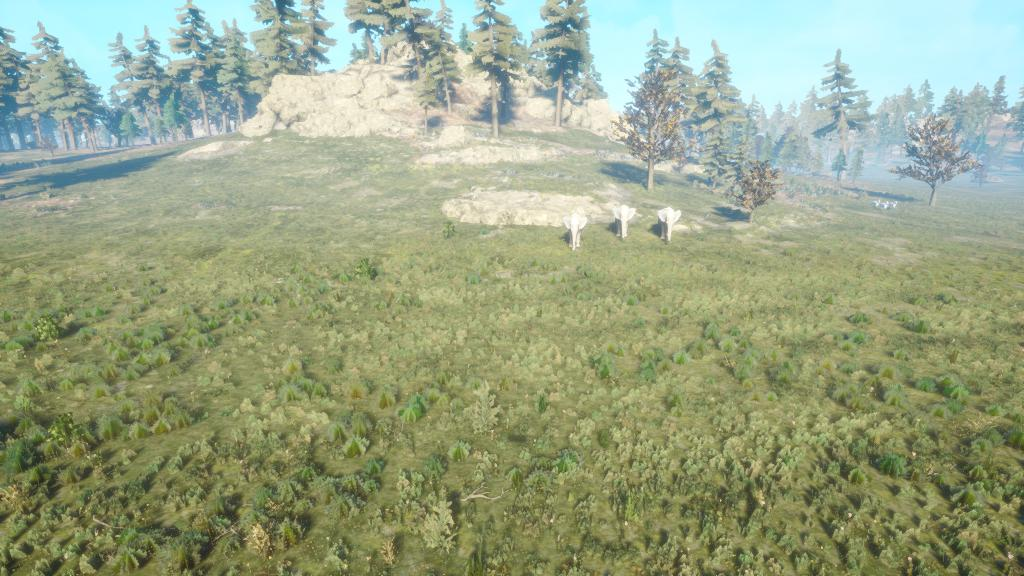elephant: (653, 197, 686, 250), (608, 197, 640, 243), (559, 207, 591, 253)
